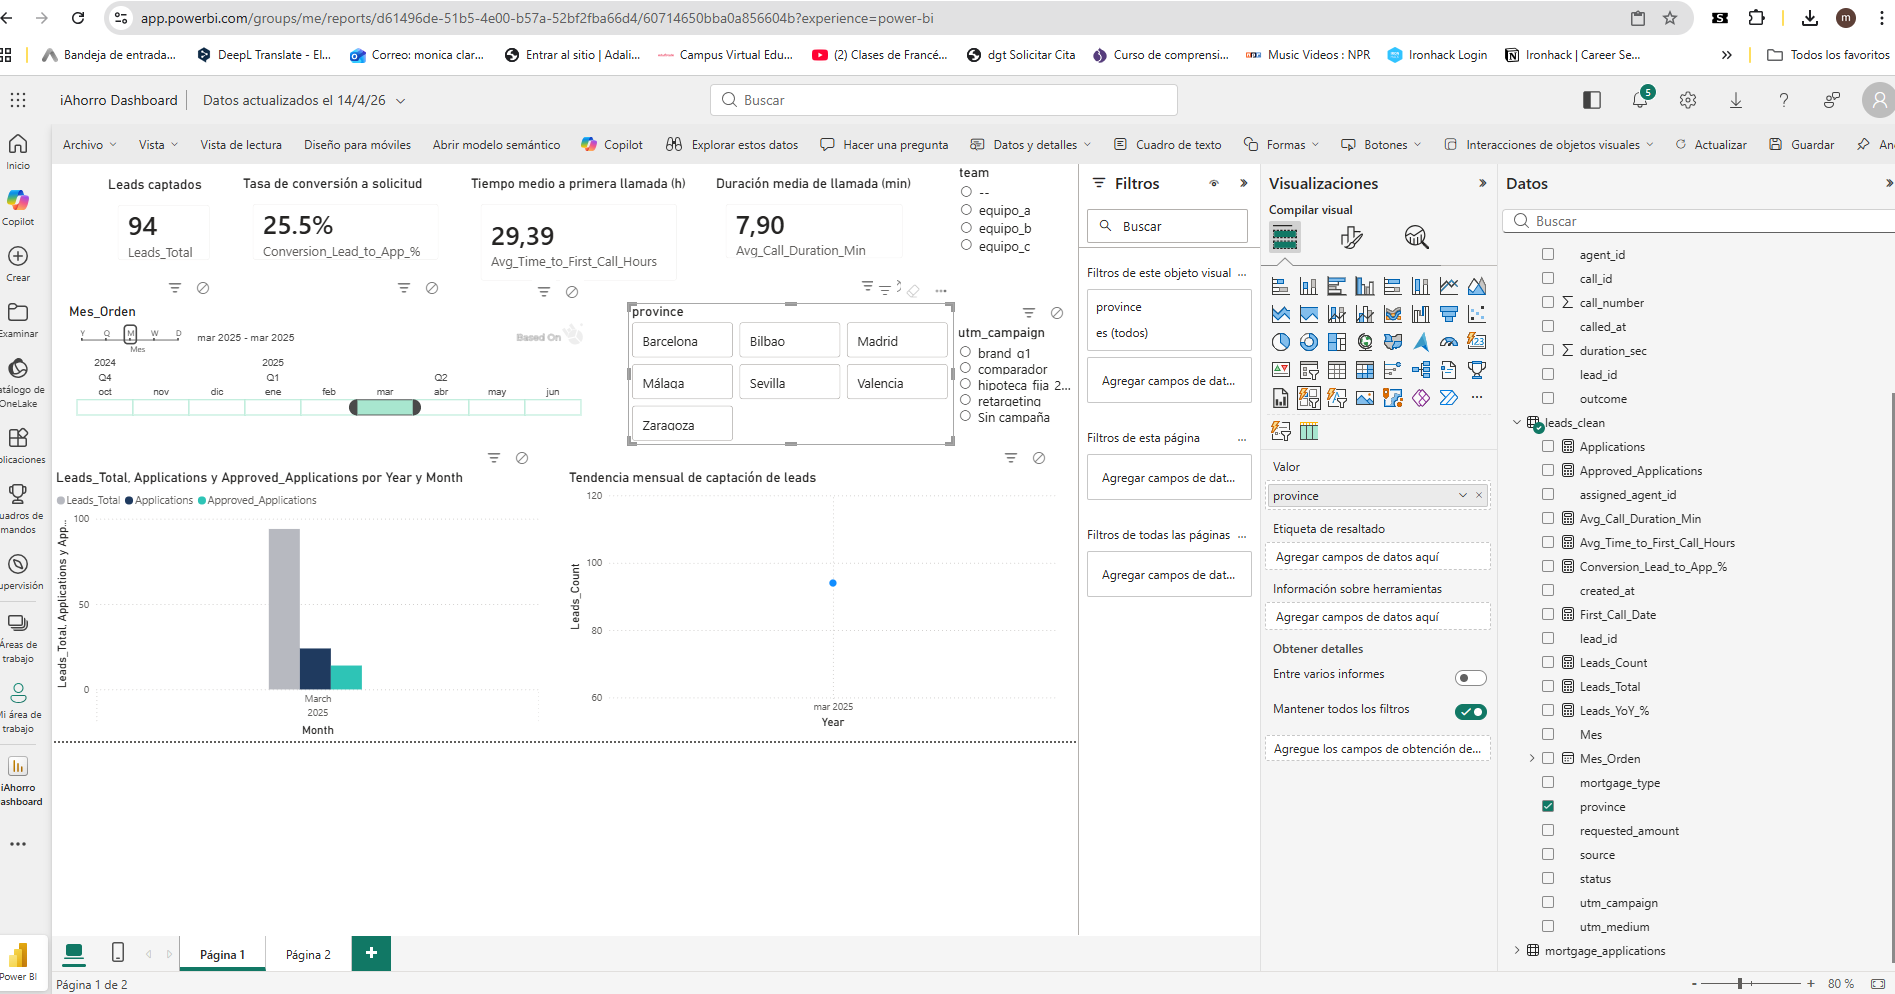

Layout of this report page (visuals, bound fields, positions):
{"tool":"powerbi","page":{"name":"Página 1","canvas":[1280,720],"ordinal":0},"visuals":[{"type":"cardVisual","title":"Leads captados","fields":{"Data":["leads_clean.Leads_Total","leads_clean.Leads_Total"]},"box":[64.9,15,149.7,122.3],"z":0},{"type":"cardVisual","title":"Tasa de conversión a solicitud","fields":{"Data":["leads_clean.Conversion_Lead_to_App_%"]},"box":[233.3,13.7,267,123.5],"z":1000},{"type":"cardVisual","title":"Tiempo medio a primera llamada (h)","fields":{"Data":["leads_clean.Avg_Time_to_First_Call_Hours"]},"box":[517.7,13.7,279.5,149.7],"z":2000},{"type":"clusteredColumnChart","fields":{"Y":["leads_clean.Leads_Total","leads_clean.Applications","leads_clean.Approved_Applications"],"Category":["leads_clean.Mes_Orden.Variación.Date Hierarchy.Year","leads_clean.Mes_Orden.Variación.Date Hierarchy.Month"]},"box":[0,380.5,612.6,339.3],"z":3000},{"type":"listSlicer","fields":{"Values":["agents 2.team"]},"box":[1126.5,0,153.5,210.8],"z":4000},{"type":"listSlicer","fields":{"Values":["leads_clean.utm_campaign"]},"box":[1125.3,199.6,154.7,193.4],"z":6000},{"type":"BasedOnTimelineSlicer","fields":{"Time":["leads_clean.Mes_Orden"]},"box":[16.2,173.4,658.7,146],"z":7000},{"type":"cardVisual","title":"Duración media de llamada (min)","fields":{"Data":["leads_clean.Avg_Call_Duration_Min"]},"box":[823.4,13.7,255.8,121],"z":8000},{"type":"lineChart","title":"Tendencia mensual de captación de leads","fields":{"Y":["leads_clean.Leads_Count"],"Category":["leads_clean.Mes_Orden.Variación.Date Hierarchy.Year","leads_clean.Mes_Orden.Variación.Date Hierarchy.Month","leads_clean.Mes_Orden.Variación.Date Hierarchy.Day"]},"box":[640,380.5,617.5,328.1],"z":8001},{"type":"advancedSlicerVisual","fields":{"Values":["leads_clean.province"]},"box":[718.6,173.4,406.7,177.2],"z":8002}]}

Visuals, with their boxes on the page's 1280x720 design canvas (x1, y1, x2, y2). These are canvas units, not pixel positions in the 1895x994 screenshot, which may show the page scaled, cropped or inside an application window:
"Leads captados" cardVisual: region(65, 15, 215, 137)
"Tasa de conversión a solicitud" cardVisual: region(233, 14, 500, 137)
"Tiempo medio a primera llamada (h)" cardVisual: region(518, 14, 797, 163)
clusteredColumnChart - leads_clean.Leads_Total x leads_clean.Applications: region(0, 380, 613, 720)
listSlicer - agents 2.team: region(1126, 0, 1280, 211)
listSlicer - leads_clean.utm_campaign: region(1125, 200, 1280, 393)
BasedOnTimelineSlicer - leads_clean.Mes_Orden: region(16, 173, 675, 319)
"Duración media de llamada (min)" cardVisual: region(823, 14, 1079, 135)
"Tendencia mensual de captación de leads" lineChart: region(640, 380, 1258, 709)
advancedSlicerVisual - leads_clean.province: region(719, 173, 1125, 351)
